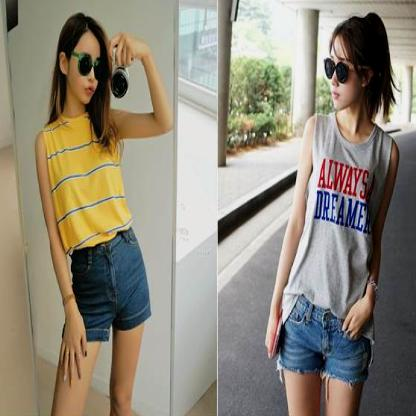jacket: (284, 110, 394, 320), (46, 112, 133, 250), (64, 226, 152, 340), (274, 292, 375, 382)
